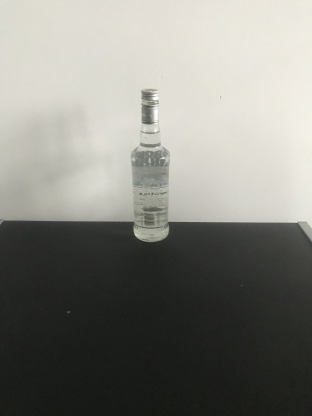nakretka: (139, 86, 160, 124)
